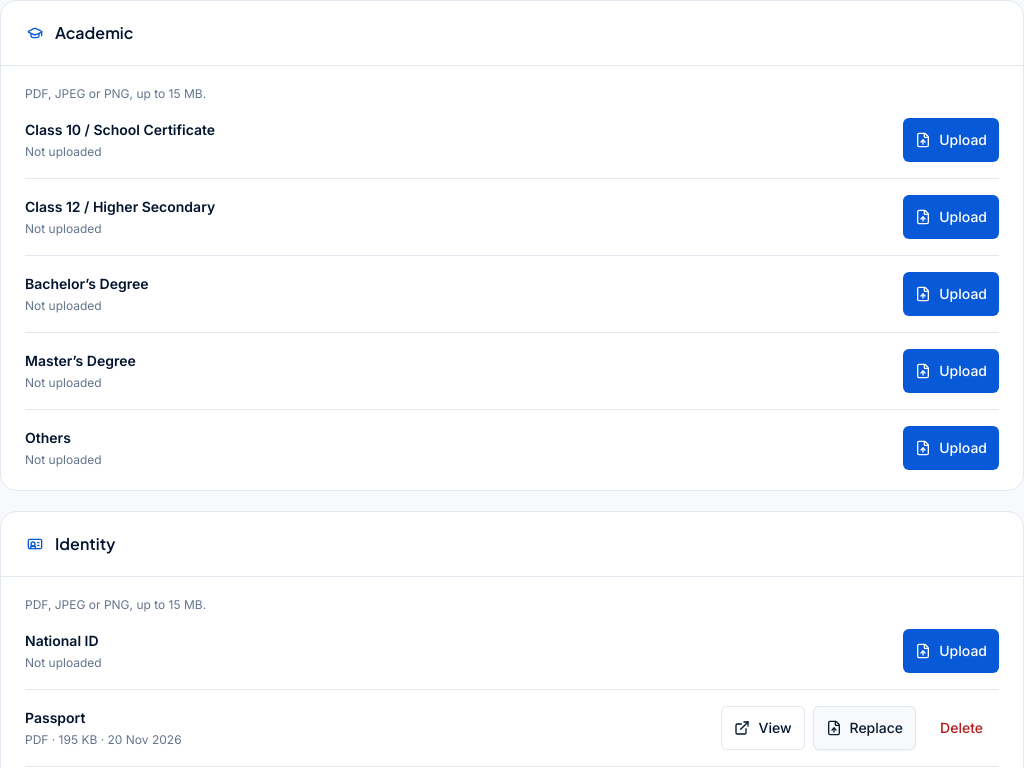
Test case: student uploads (My Documents) › deletes only after confirmation
The image size is (1024, 768).
Click the button with aria-label "Delete Passport": (962, 728) x1=924 y1=706 x2=999 y2=750
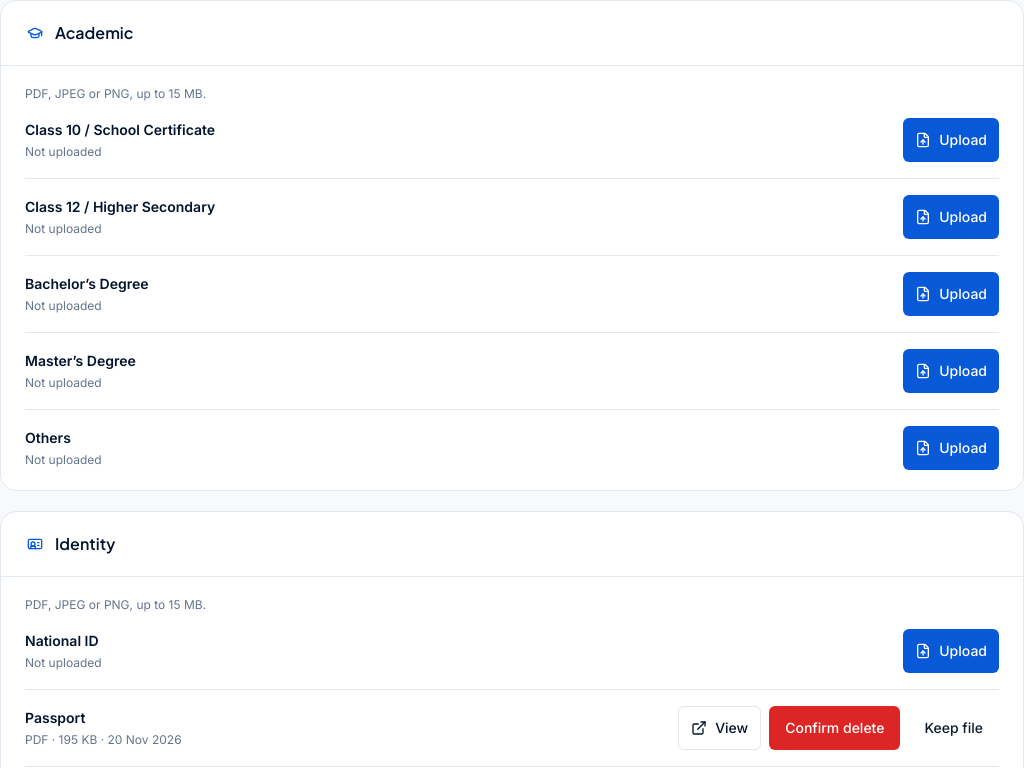
Click the button with aria-label "Confirm delete Passport": (835, 728) x1=769 y1=706 x2=900 y2=750
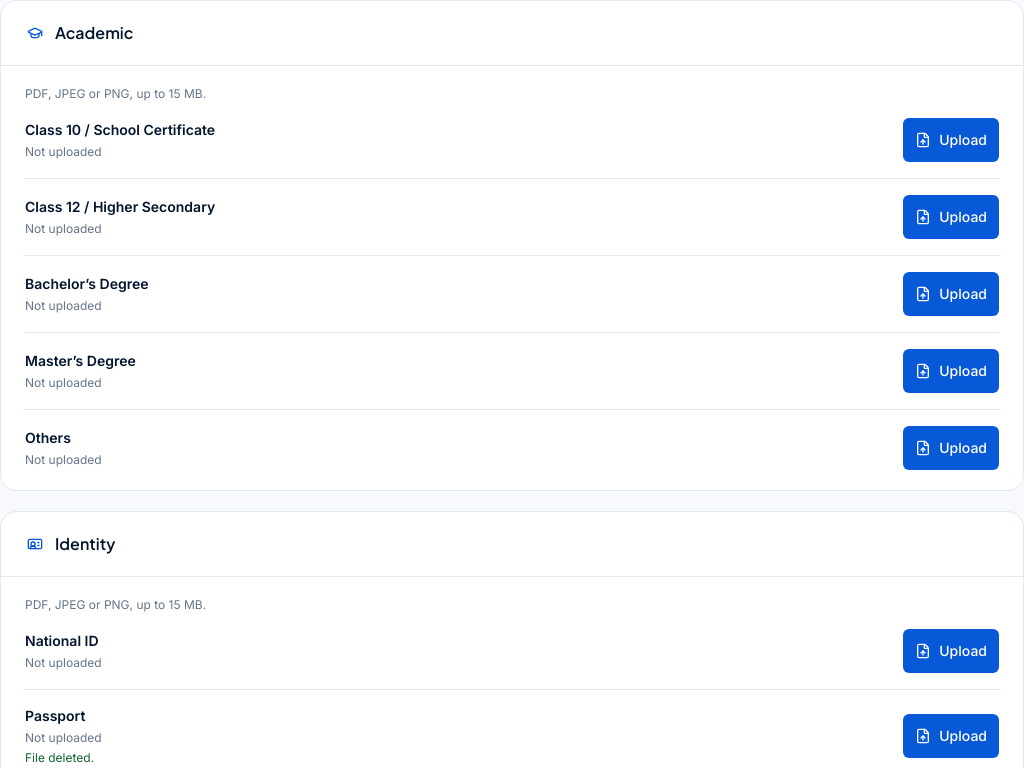
expect the text "File deleted." is shown: met, box x1=25 y1=750 x2=102 y2=766
expect the button with aria-label "Upload Passport" is shown: met, box x1=903 y1=714 x2=999 y2=758
